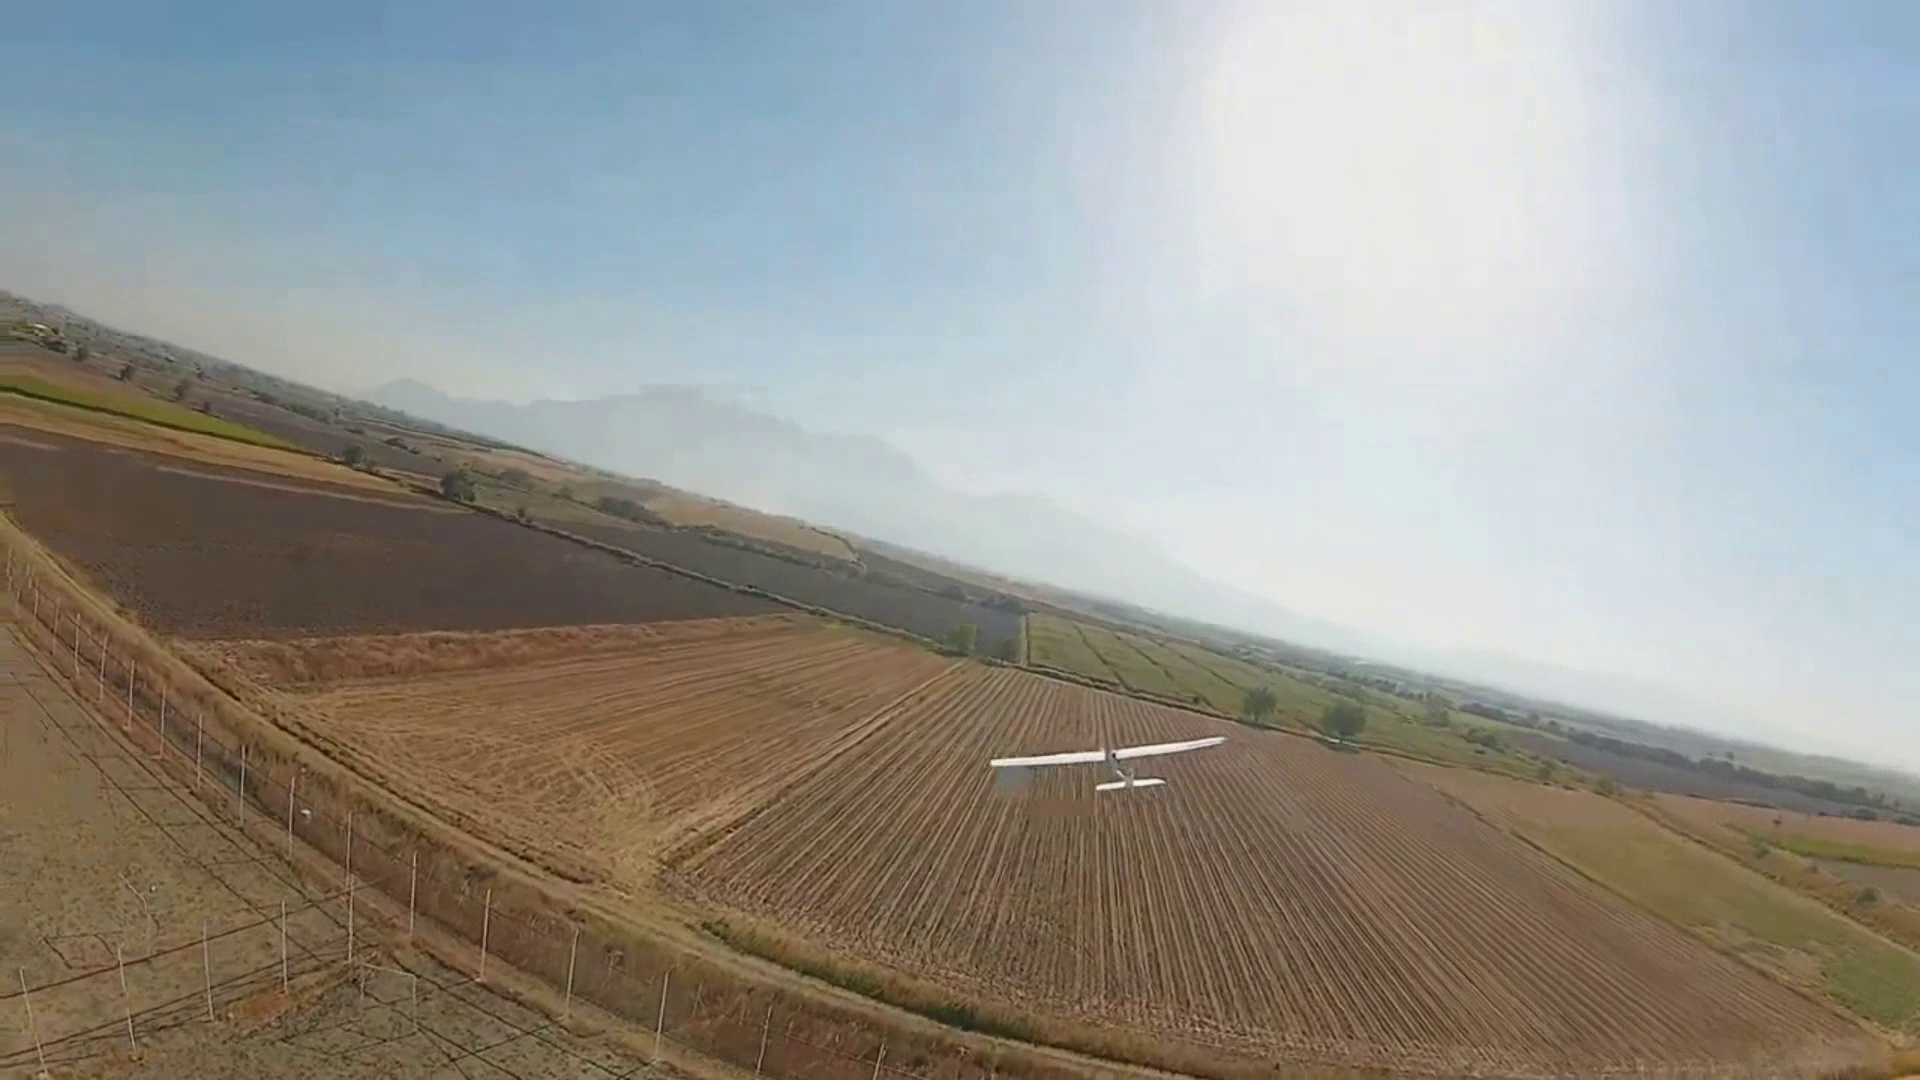airplane: (1, 289, 1905, 779)
